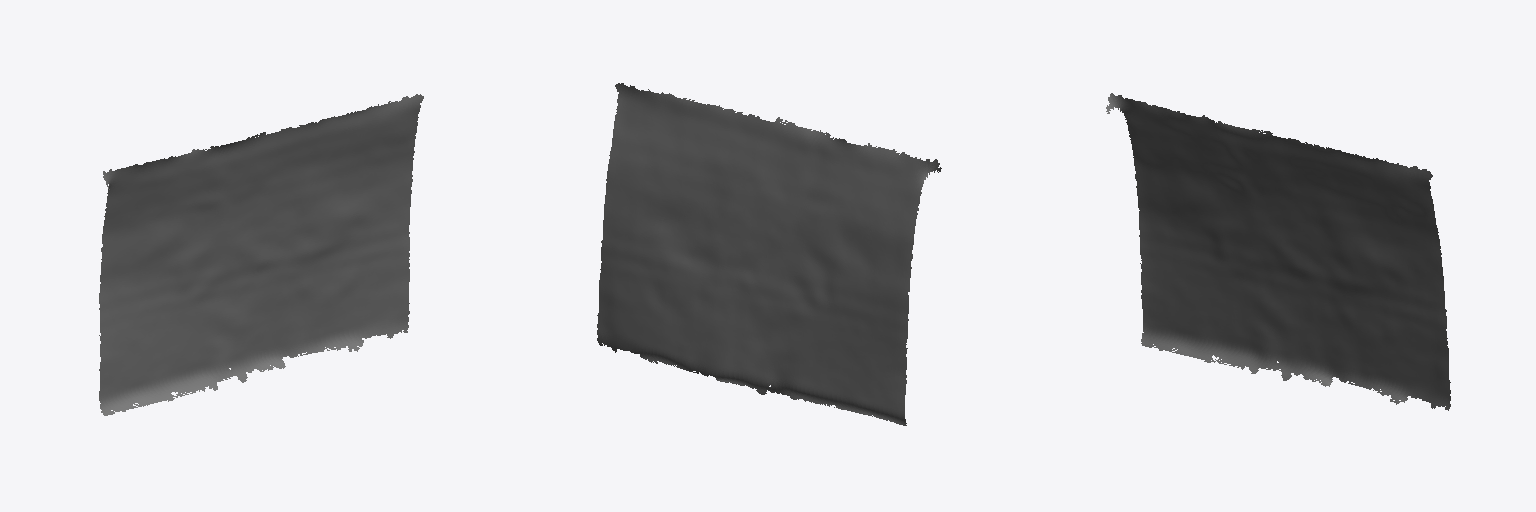
File: chad001re3d_textured.obj
3 renders of one model, left to right at view 1: azimuth 30°, elevation 25°; view 2: azimuth 150°, elevation 25°; view 3: azimuth 330°, elevation 25°, orthographic.
Bounding box in the file's own units: 328 × 255 × 48.13.